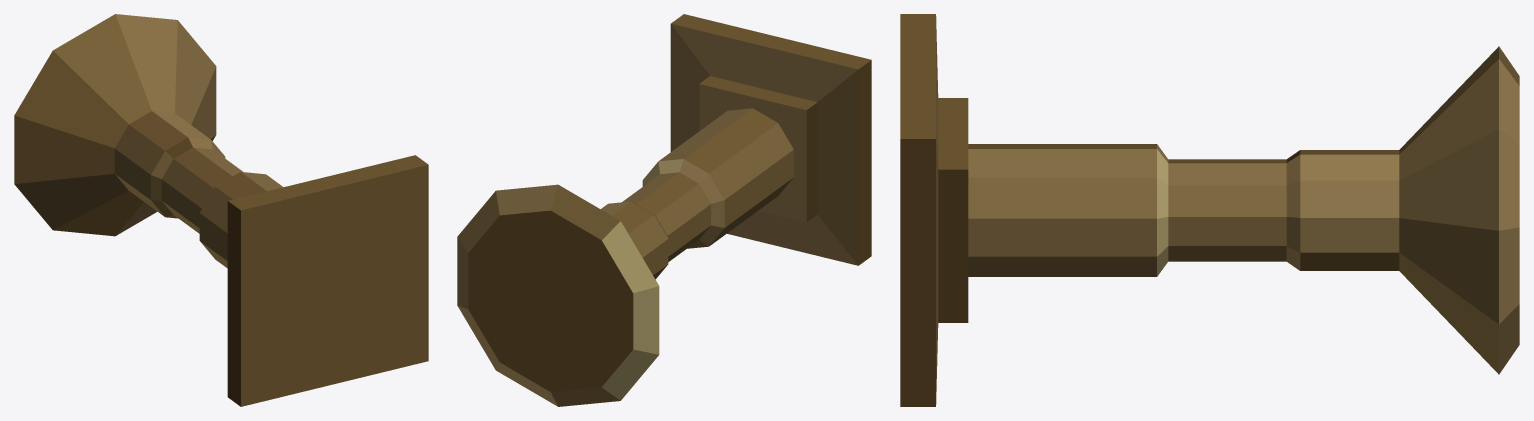
Rendered from desert_campfire.fbx.
The picture shows the model from 3 angles, left to right: view 1: azimuth 30°, elevation 25°; view 2: azimuth 150°, elevation 25°; view 3: azimuth 270°, elevation 25°; orthographic projection. The views are drawn at different scales.
Visible parts, largest first — view 1: desert_campfire; view 2: desert_campfire; view 3: desert_campfire.
Part boxes in pixels (x1,y1,x2,y2): desert_campfire: (14,14,428,406); desert_campfire: (457,14,871,406); desert_campfire: (900,14,1519,406).
Bounding box in the file's own units: 47.66 × 50.11 × 92.76.
